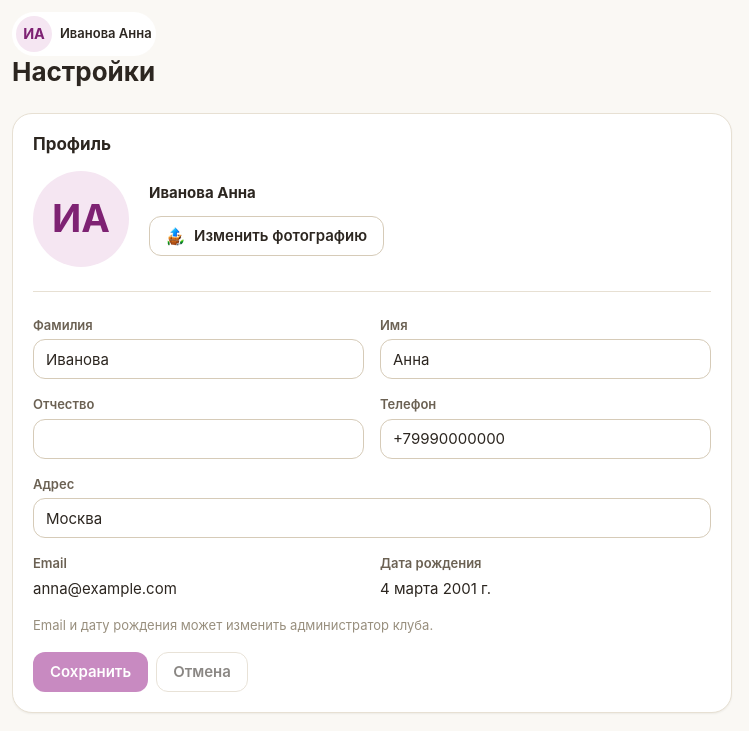
Test: SettingsPage profile data (TH #311) › cancel restores the loaded values without a request
Step 1. Replace the text in the field labelled "Имя" with "Мария" → (546, 359), box [380,339,711,379]
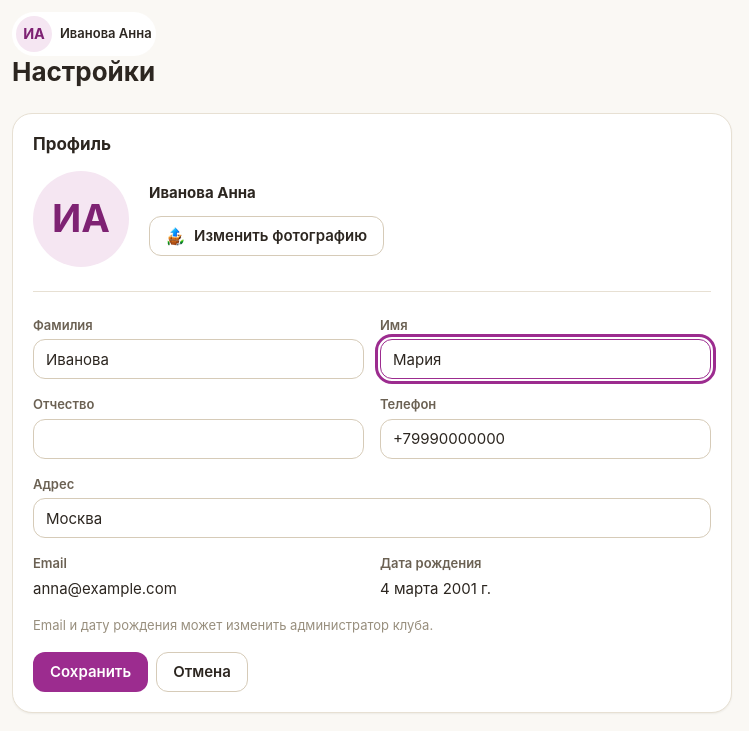
Step 2. Type "1" into the field labelled "Телефон" → (546, 439), box [380,419,711,459]
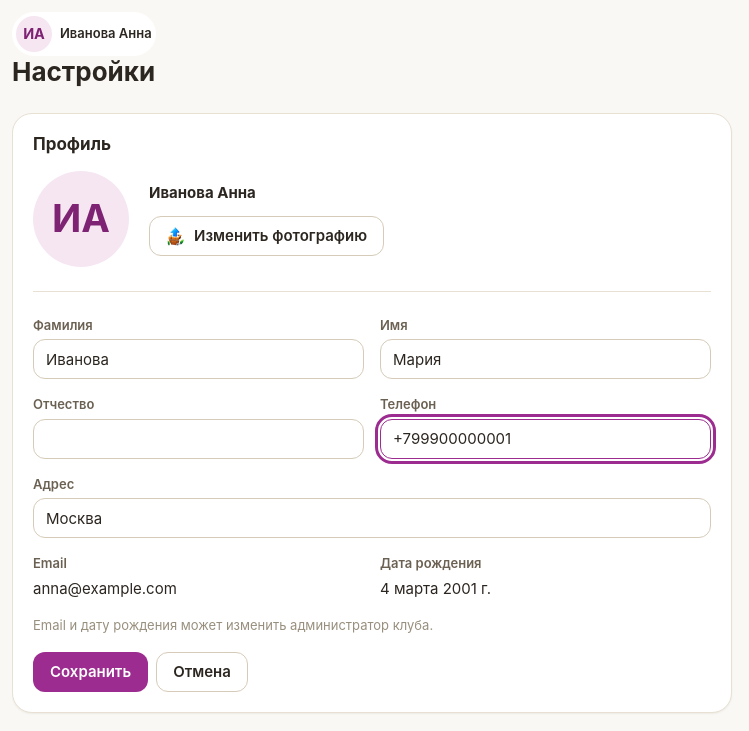
Step 3. Click the button "Отмена" → (202, 672), box [156,652,248,692]
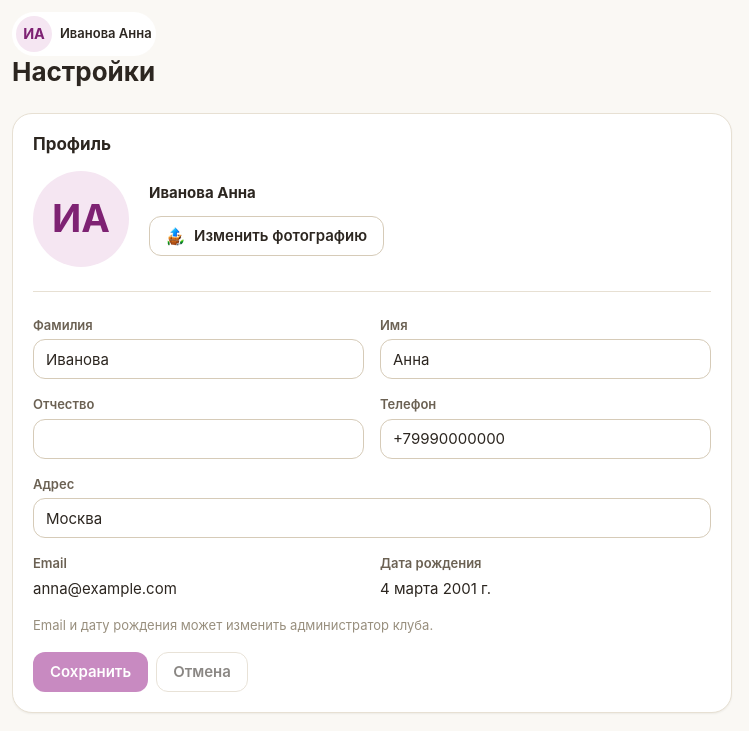
Now the field labelled "Имя" holds "Анна", box [380,339,711,379]
Now the field labelled "Телефон" holds "+79990000000", box [380,419,711,459]
